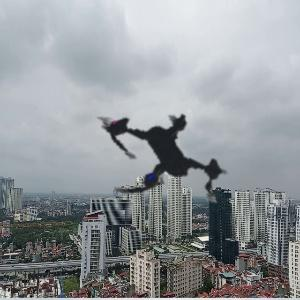drone: (43, 31, 290, 278)
